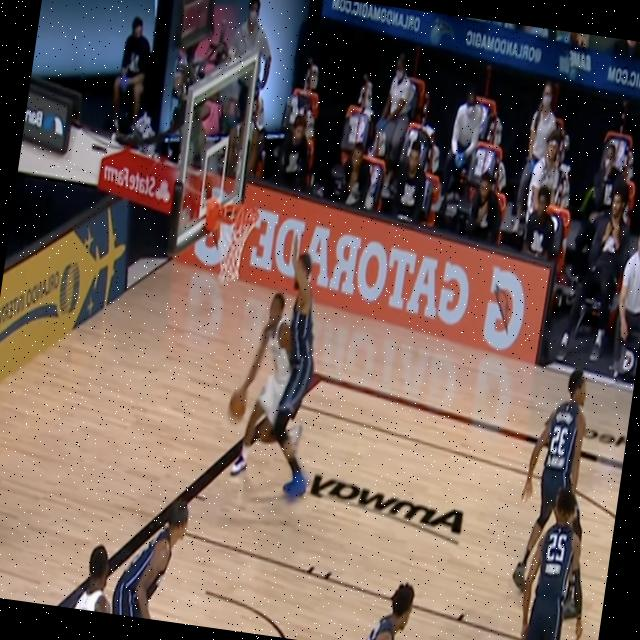Foul: (208, 208, 362, 538)
